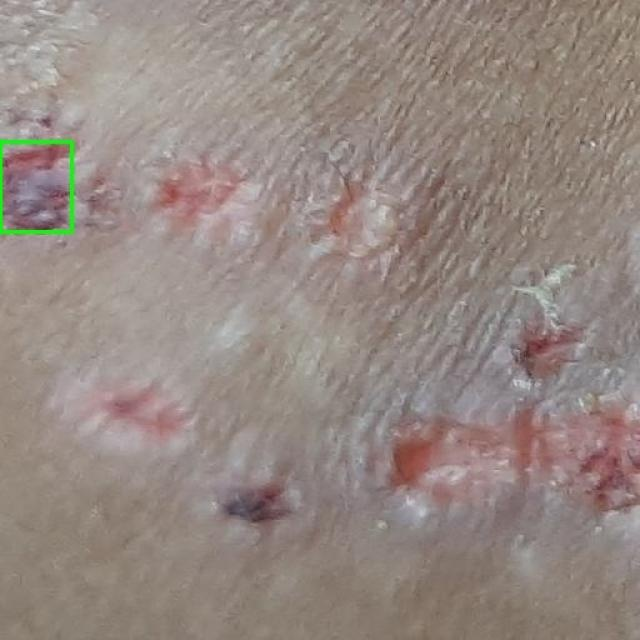Eczema: (0, 141, 71, 231)
